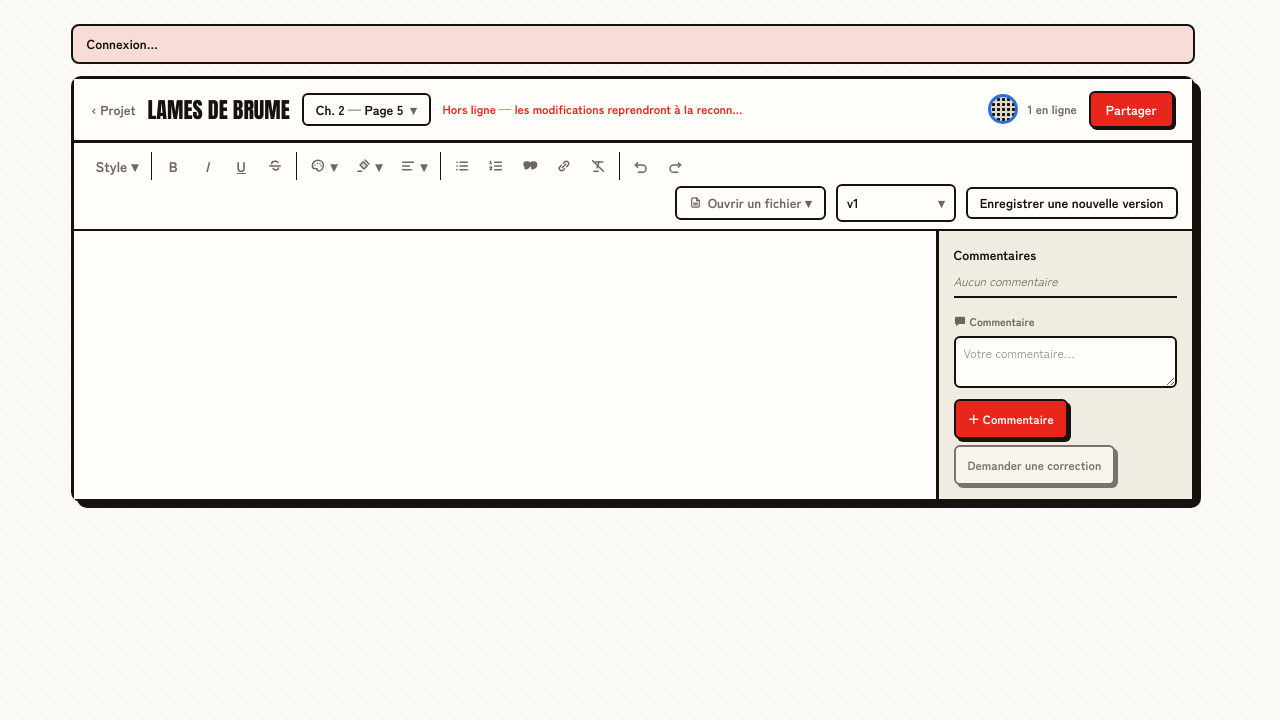
EditorClient (Éditeur shell) › surfaces a version-snapshot failure with the server message
Expected: the text "Lames de Brume" is shown, [148,93,290,126]
What coordinates should you click on to do the following:
click the button "Enregistrer une nouvelle version"
I would click on:
 (1072, 203)
Its box is [966,187,1178,219].
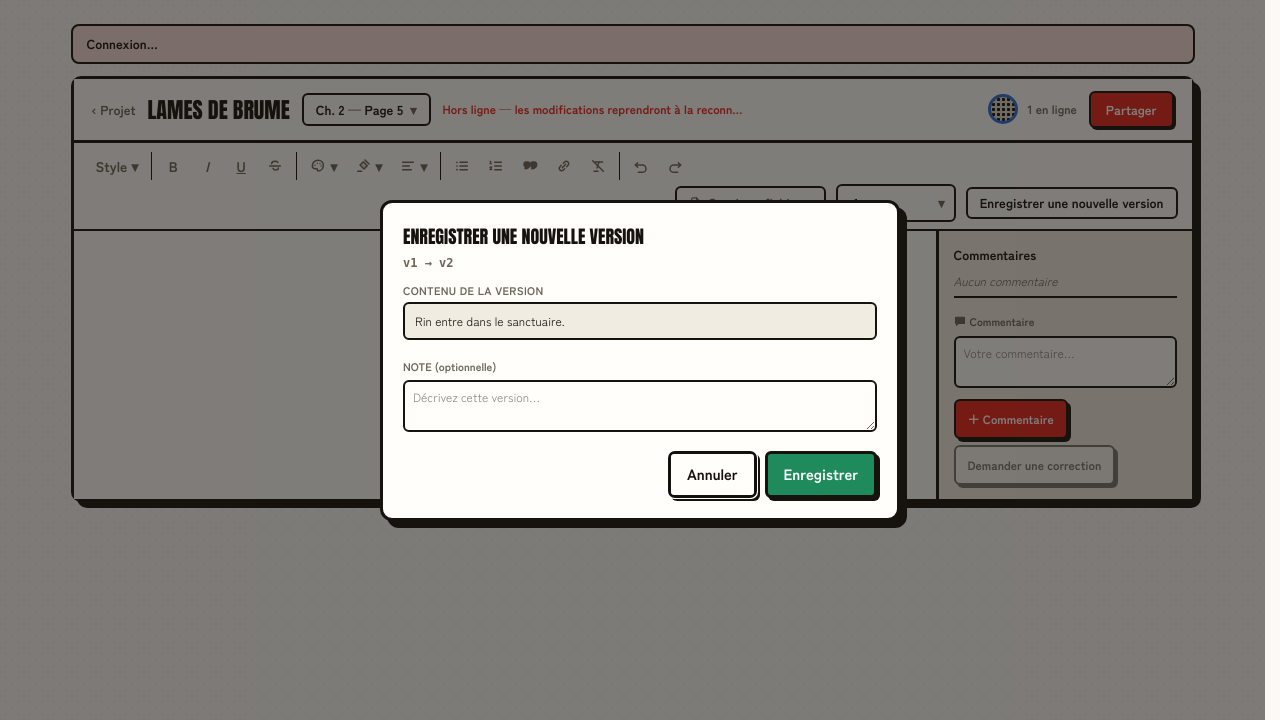
What coordinates should you click on to do the following:
click the button "Enregistrer"
I would click on:
 (821, 474)
Its box is [765,451,877,498].
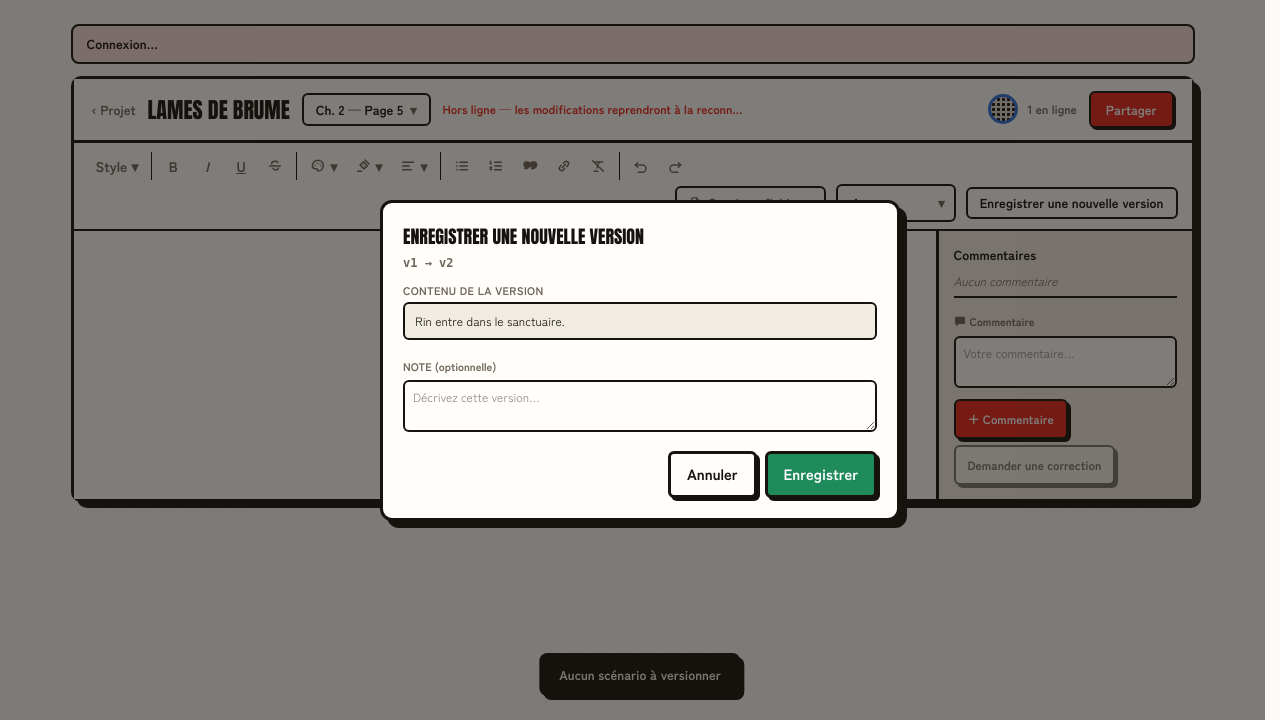
Now the text "Aucun scénario à versionner" is shown, box [539,652,741,696]
